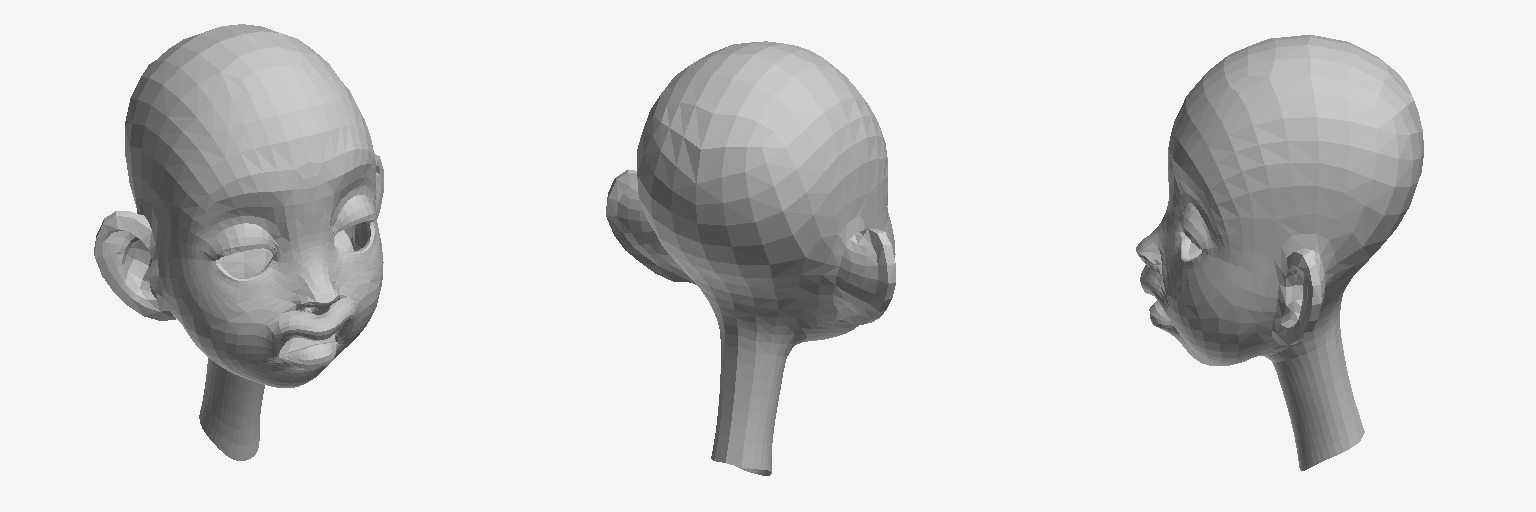
Rendered from upperLipRaiser.obj.
The picture shows the model from 3 angles: view 1: azimuth 30°, elevation 25°; view 2: azimuth 150°, elevation 25°; view 3: azimuth 270°, elevation 25°; orthographic projection.
Parts seen in each view (by area): view 1: ZBrushPolyMesh3D; view 2: ZBrushPolyMesh3D; view 3: ZBrushPolyMesh3D.
Boxes of the visible parts, x1,y1,x2,y2 form: ZBrushPolyMesh3D: [94, 24, 383, 460]; ZBrushPolyMesh3D: [606, 41, 895, 475]; ZBrushPolyMesh3D: [1136, 35, 1423, 470].
Size of the model in its own units: 5.74 by 8.03 by 4.96.